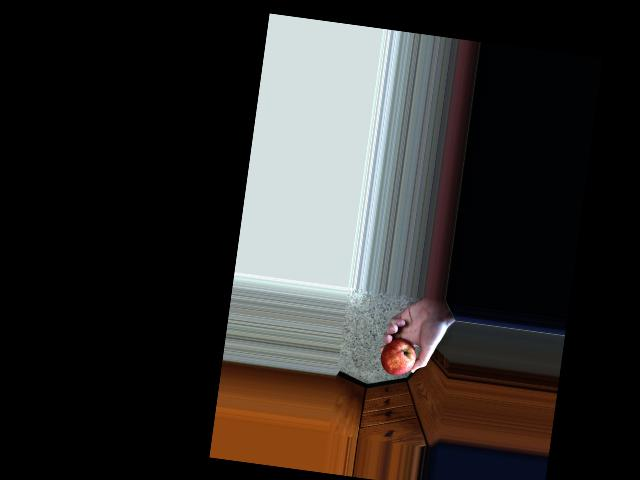apple: (378, 326, 425, 379)
